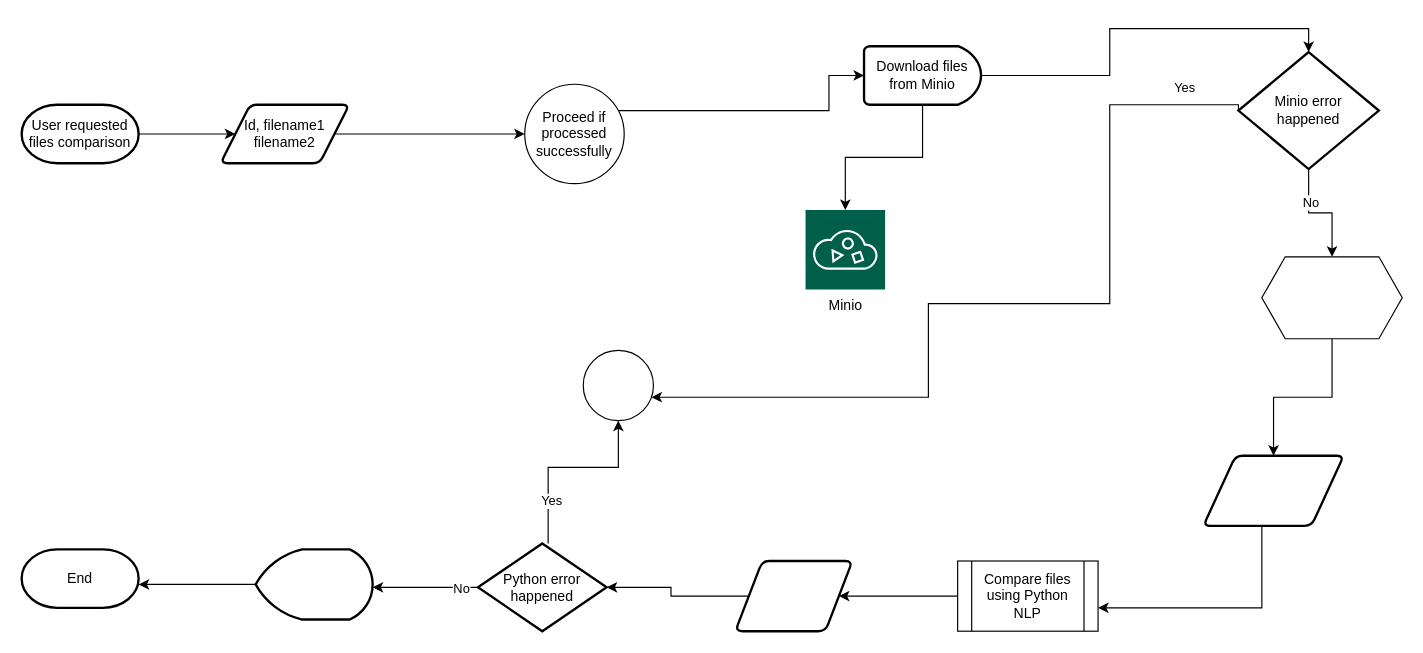
The diagram is 1423 pixels wide and 653 high, and some of its shapes have lost their labels. The centre of each missing label's shape, as x and y in pixels:
Comparison Result or Error: the point at 793,595
Display texts difference: the point at 313,584
Files content, comparison options: the point at 1273,490
Prepare pipe with the files content initialize the subprocess: the point at 1331,297
Report Error: the point at 617,385
